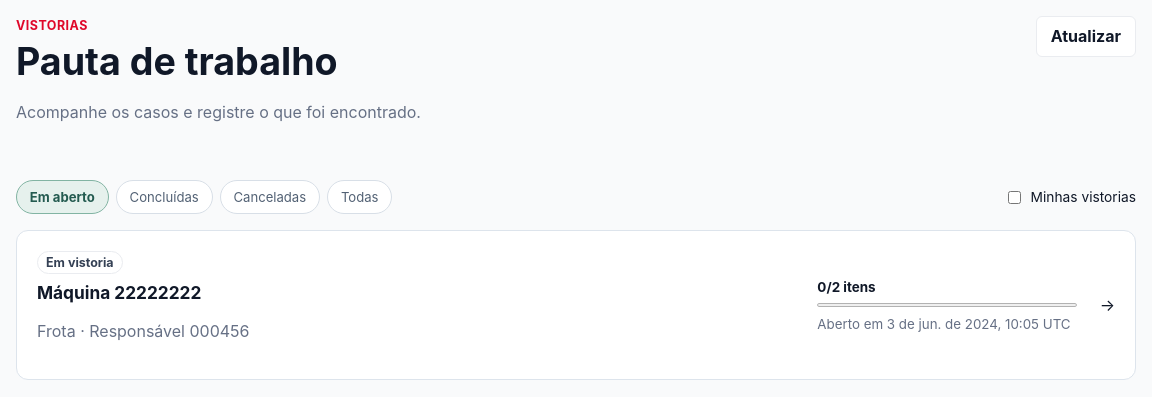
Test: filtra casos por andamento e responsável e abre o workspace
The image size is (1152, 397).
Click the button "Concluídas". click: (164, 197)
box: [116, 180, 212, 214]
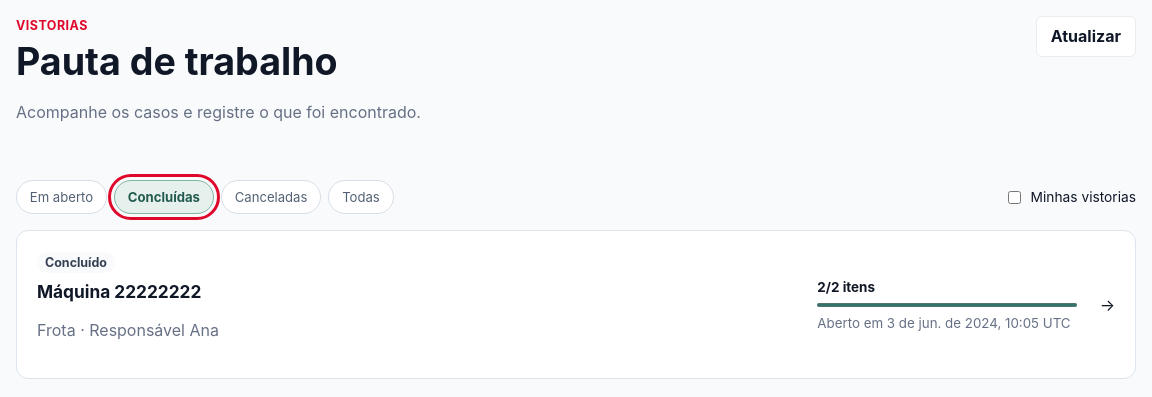
Now the link "Concluído" is shown, box [16, 230, 1136, 380]
Click the checkbox labelled "Minhas vistorias". click: (1015, 197)
box: [1008, 191, 1021, 204]
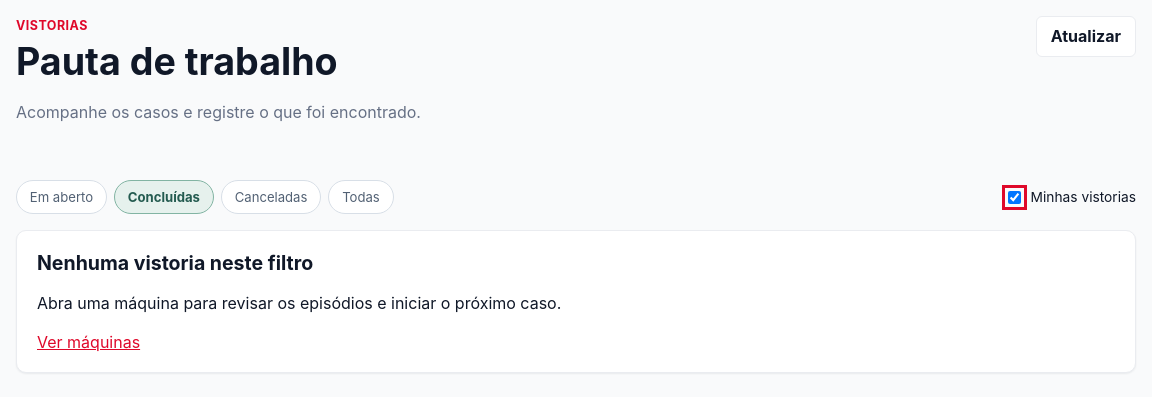
Now the heading "Nenhuma vistoria neste filtro" is shown, box [37, 252, 313, 276]
